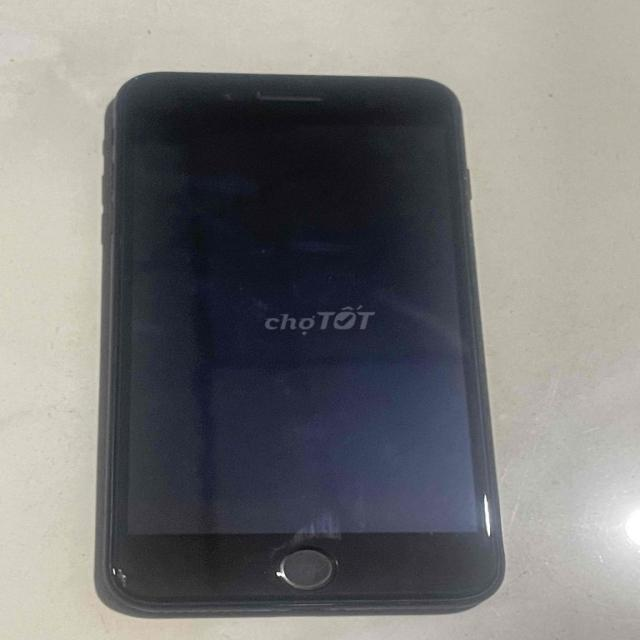scratch: (105, 559, 133, 588), (482, 491, 497, 539), (270, 565, 282, 578), (132, 72, 138, 80)
